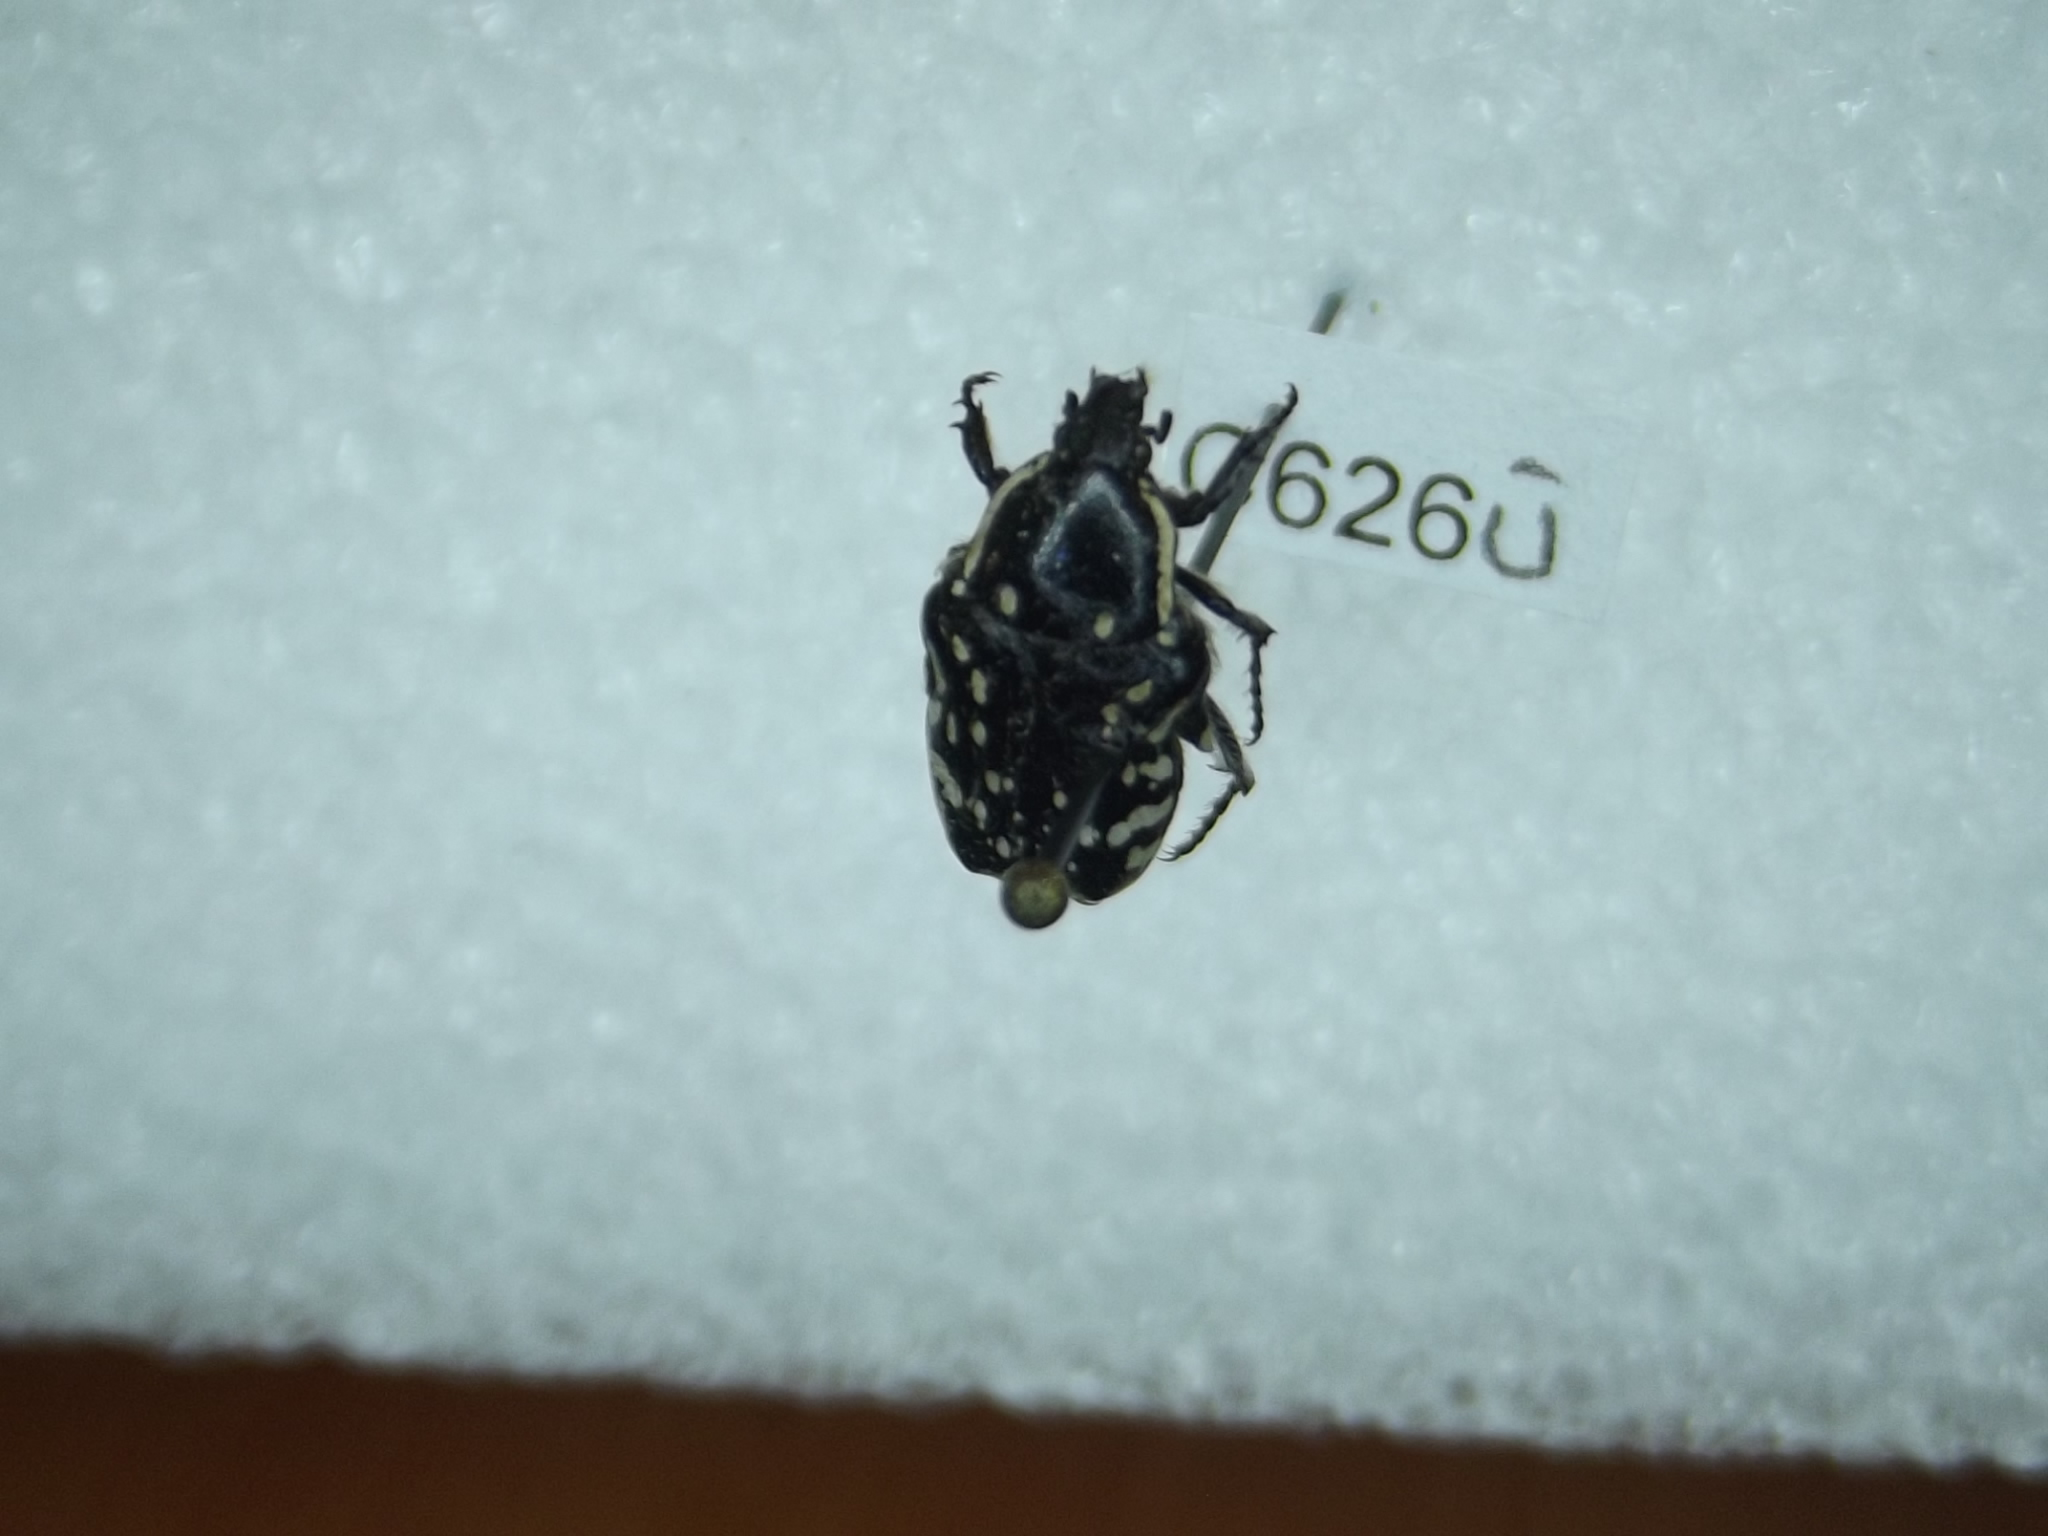Oxythyrea_funesta: (914, 337, 1314, 904)
